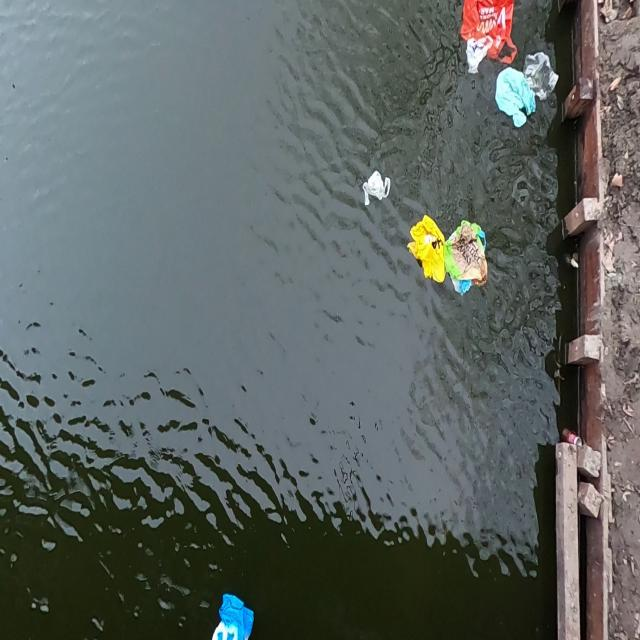Sac plastique: (453, 0, 523, 67), (487, 63, 544, 141), (514, 40, 568, 118), (445, 222, 493, 298), (406, 215, 446, 296), (211, 575, 255, 640), (356, 165, 397, 212), (464, 38, 495, 89)
